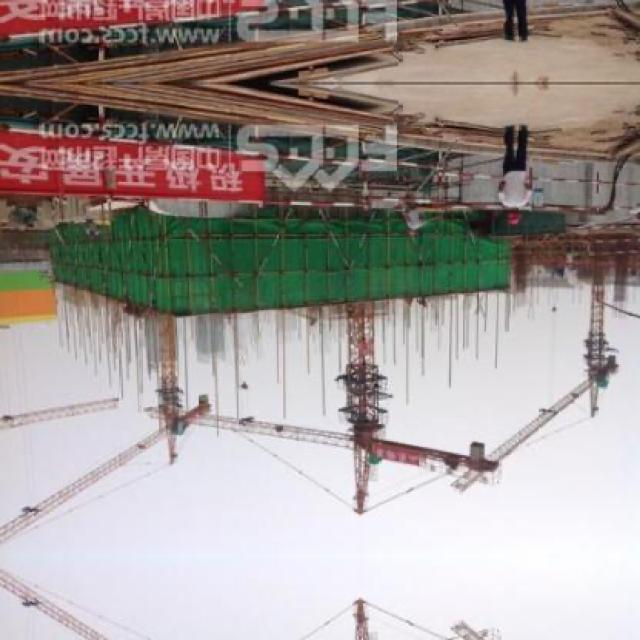con casco: (481, 191, 549, 252)
